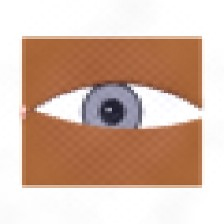pinguecula_lesion: (45, 105, 83, 136)
